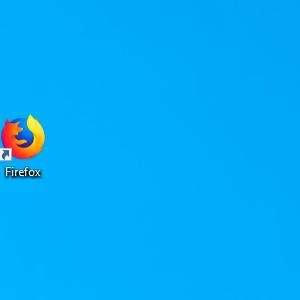firefox: (1, 113, 46, 161)
